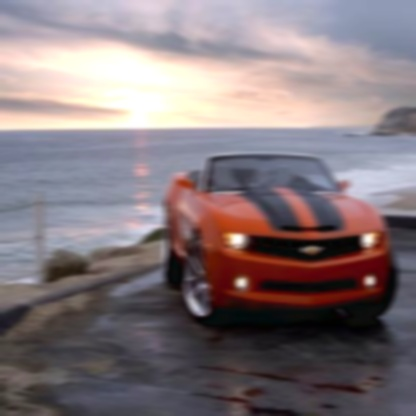Vehicle: (156, 148, 400, 330)
